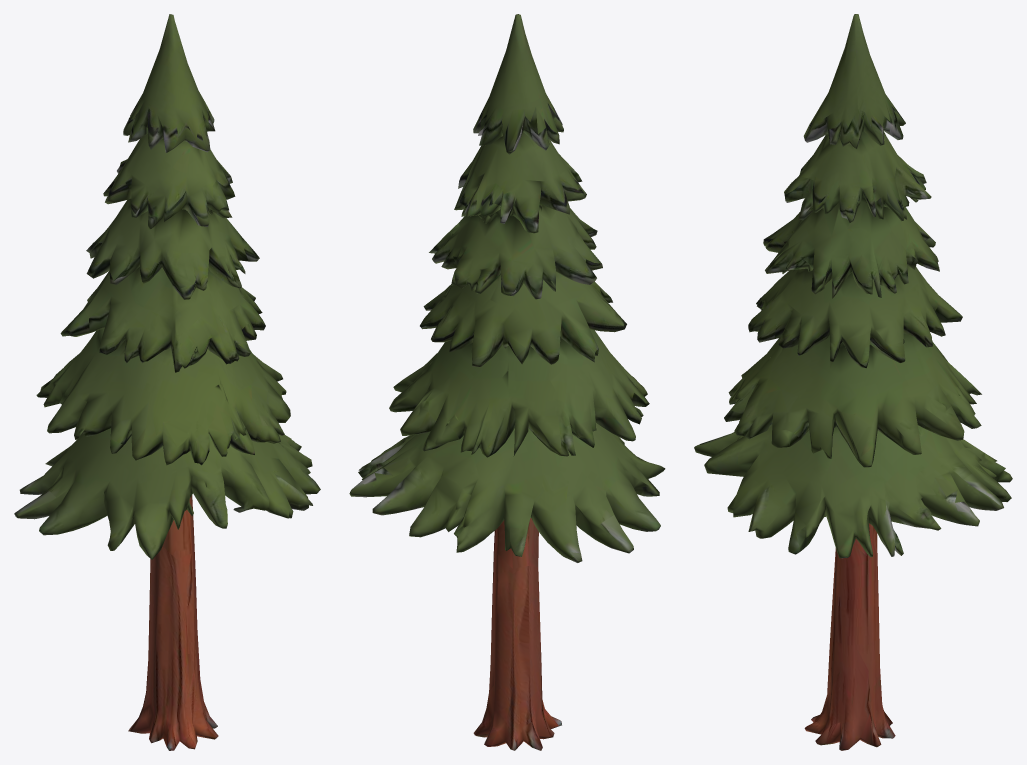
Rendered from pine.glb.
The picture shows the model from 3 angles, left to right: view 1: azimuth 30°, elevation 25°; view 2: azimuth 150°, elevation 25°; view 3: azimuth 270°, elevation 25°; orthographic projection.
Parts seen in each view (by area): view 1: tripo_node_807a9b73-6fd8-4d84-9406-4e232074bf47; view 2: tripo_node_807a9b73-6fd8-4d84-9406-4e232074bf47; view 3: tripo_node_807a9b73-6fd8-4d84-9406-4e232074bf47.
Boxes of the visible parts, box(x1,y1,x2,y2) form: tripo_node_807a9b73-6fd8-4d84-9406-4e232074bf47: box(14, 14, 320, 750); tripo_node_807a9b73-6fd8-4d84-9406-4e232074bf47: box(349, 14, 665, 750); tripo_node_807a9b73-6fd8-4d84-9406-4e232074bf47: box(694, 14, 1012, 750).
Size of the model in its own units: 0.4007 by 0.9998 by 0.4018.
Materials: 1 (1 with a texture image).
